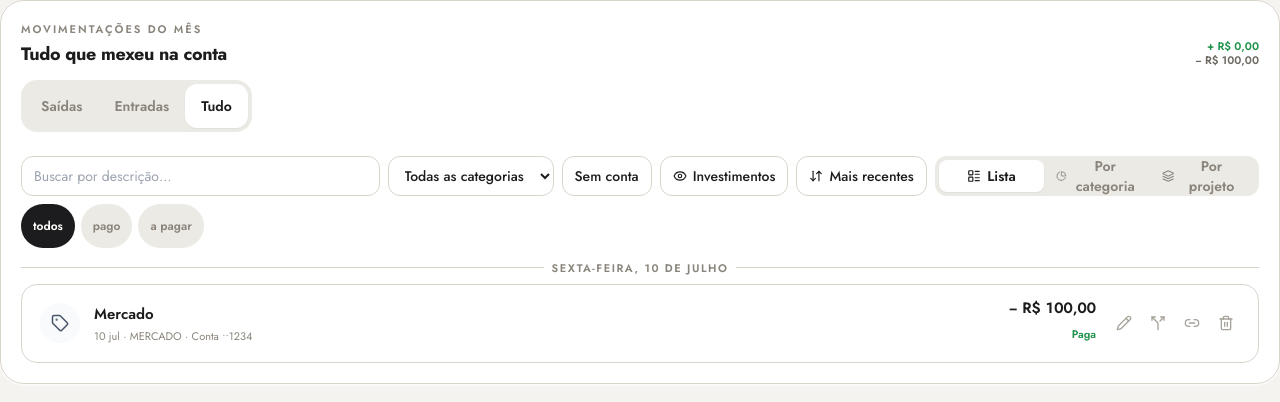
Test: MovimentacoesSection — CTA do vazio genuíno (#218) › 3) raw TEM dado mas aba Entradas esvazia a lista → mensagem de filtro, SEM CTA (guard: raw vs filtered + tab)
What coordinates should you click on to do the following:
click the button "Entradas"
I would click on:
 (142, 106)
Its box is x1=98 y1=84 x2=185 y2=128.
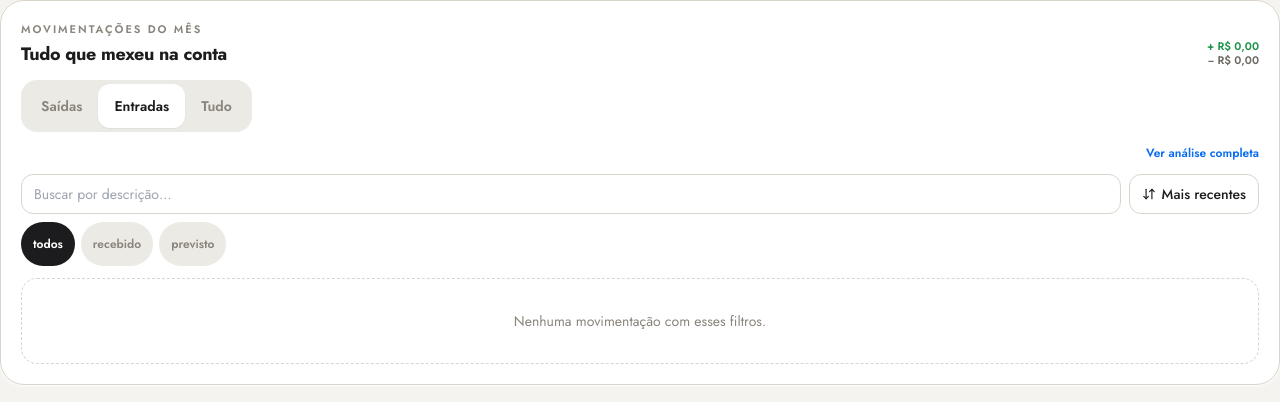
Now the text "Nenhuma movimentação com esses filtros." is shown, box x1=21 y1=278 x2=1259 y2=364
